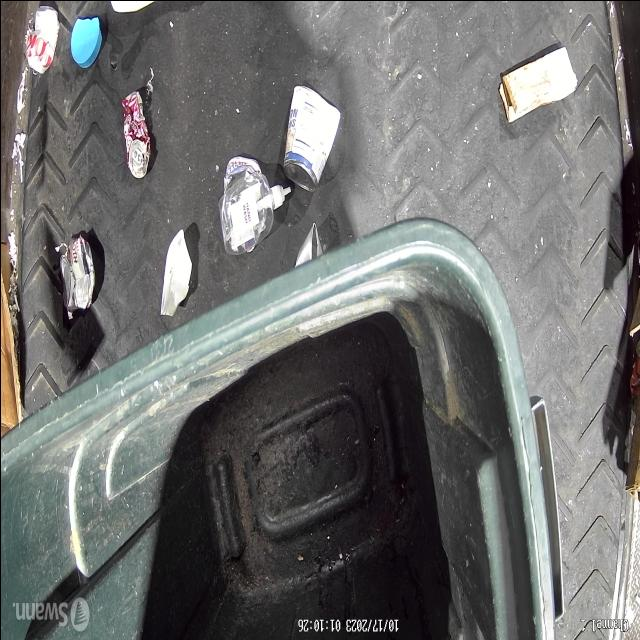can: (282, 86, 340, 192), (119, 89, 150, 178), (21, 4, 58, 76), (59, 234, 93, 311), (294, 222, 324, 264)
